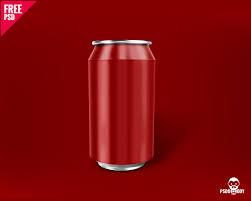Aluminum can: (80, 33, 165, 176)
